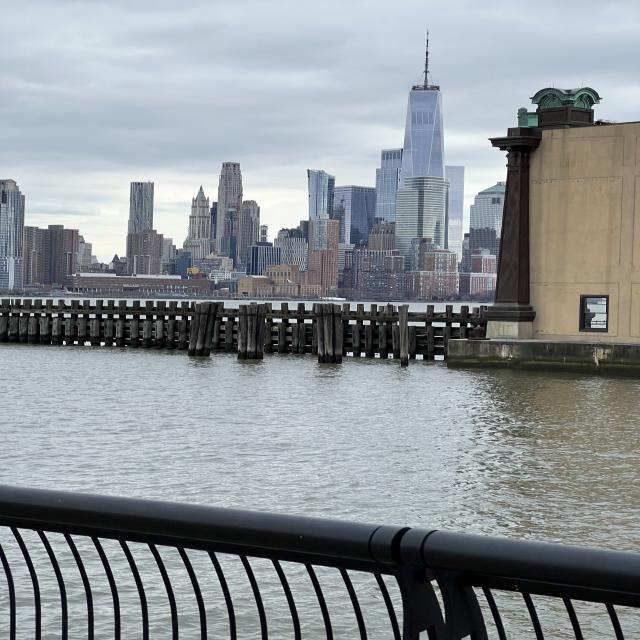WTC: (398, 29, 446, 178)
